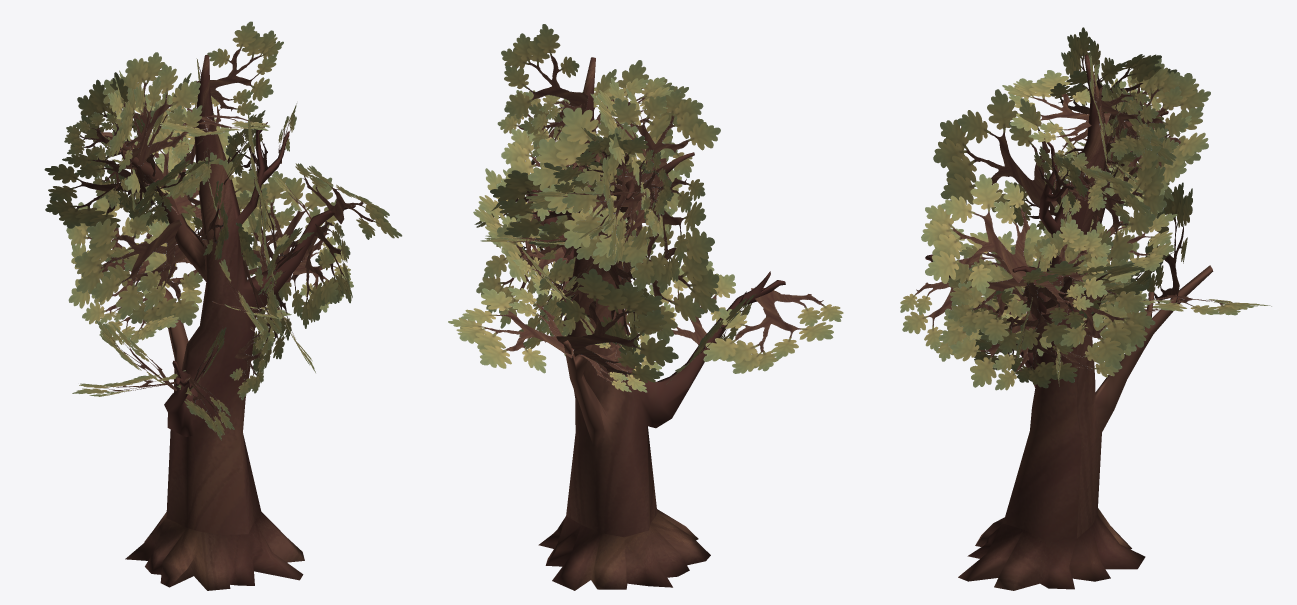
Rendered from Tree_2_o.fbx.
The picture shows the model from 3 angles, left to right: view 1: azimuth 30°, elevation 25°; view 2: azimuth 150°, elevation 25°; view 3: azimuth 270°, elevation 25°; orthographic projection. The views are drawn at different scales.
Visible parts, largest first — view 1: tree; view 2: tree; view 3: tree.
Boxes of the visible parts, x1,y1,x2,y2 form: tree: (44, 21, 402, 590); tree: (448, 24, 843, 590); tree: (900, 27, 1271, 590).
Size of the model in its own units: 1522 by 2175 by 1483.
